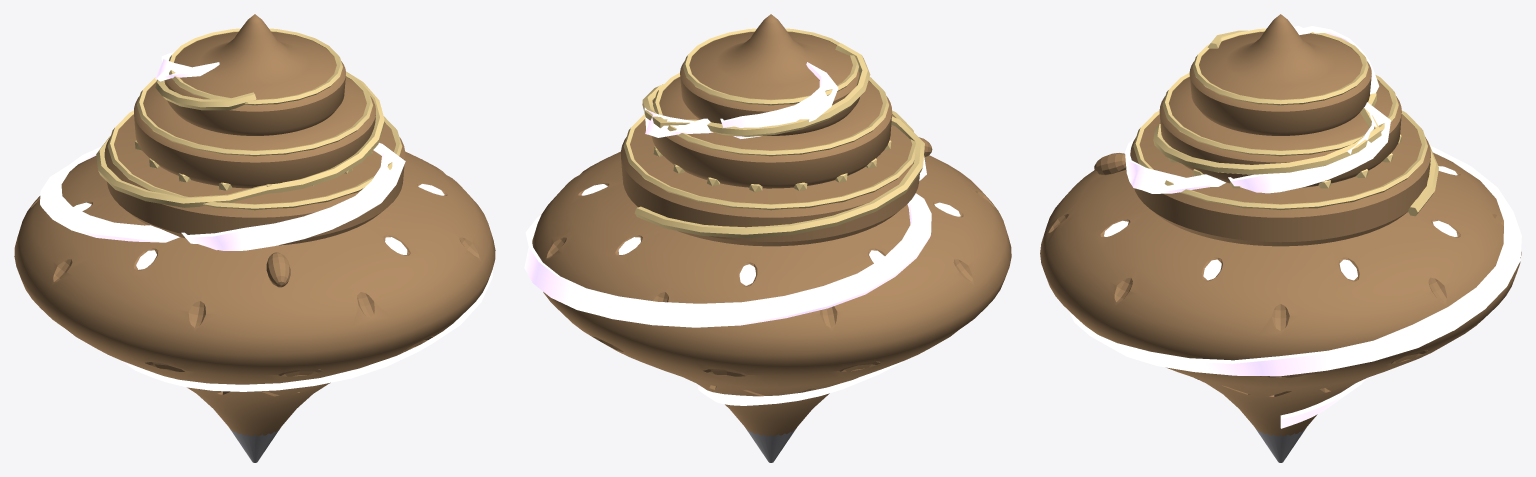
Rendered from gasing_kl.glb.
The picture shows the model from 3 angles, left to right: view 1: azimuth 30°, elevation 25°; view 2: azimuth 150°, elevation 25°; view 3: azimuth 270°, elevation 25°; orthographic projection.
Visible parts, largest first — view 1: Gasing_kl; view 2: Gasing_kl; view 3: Gasing_kl.
Boxes of the visible parts, x1,y1,x2,y2 form: Gasing_kl: (14,14,495,462); Gasing_kl: (524,14,1011,462); Gasing_kl: (1040,14,1521,462).
Bounding box in the file's own units: 1.13 × 1.15 × 1.12.
